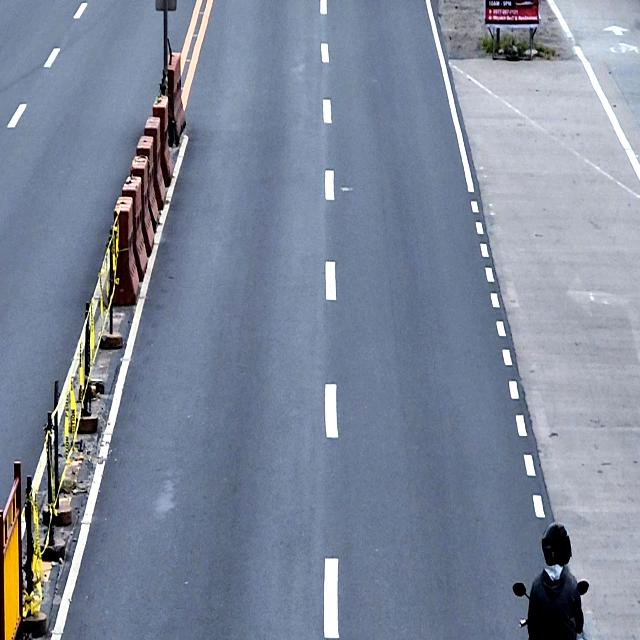Motorcycle: (512, 579, 589, 639)
